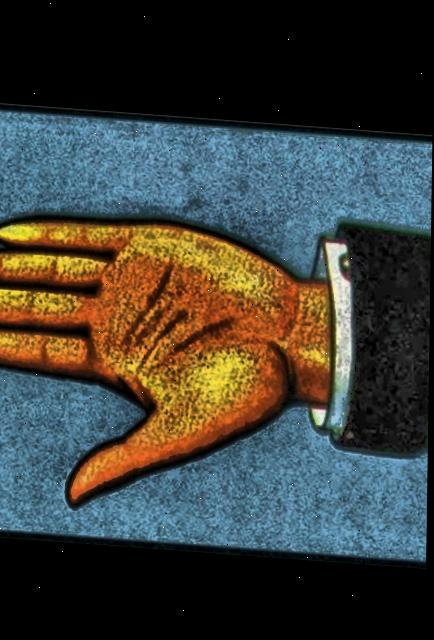La Mano: (0, 112, 433, 554)
